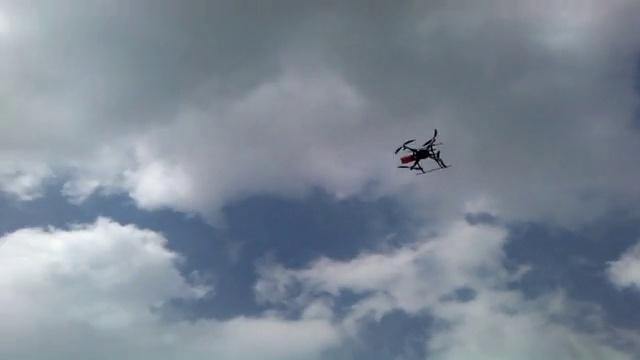drone: (392, 125, 450, 178)
